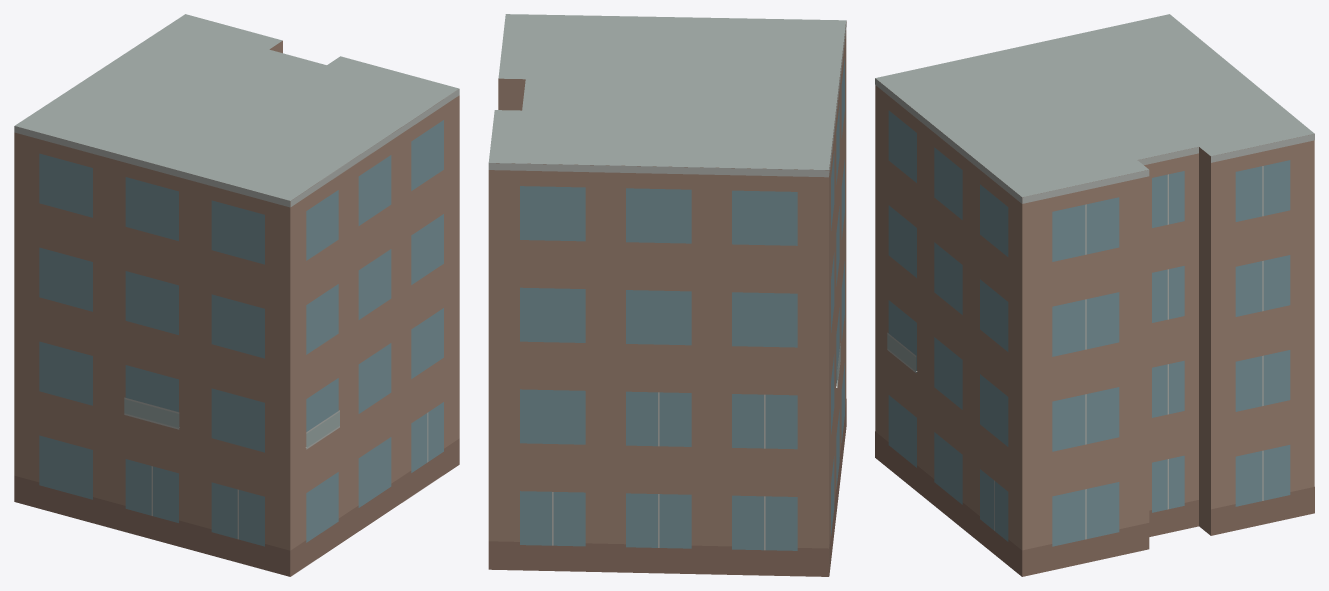
Rendered from survey-upis-33043511.glb.
3 renders of one model, left to right at view 1: azimuth 30°, elevation 25°; view 2: azimuth 150°, elevation 25°; view 3: azimuth 270°, elevation 25°, orthographic. The views are drawn at different scales.
Parts seen in each view (by area): view 1: survey-upis-33043511.tmp; view 2: survey-upis-33043511.tmp; view 3: survey-upis-33043511.tmp.
Boxes of the visible parts, bbox=[...] form: survey-upis-33043511.tmp: bbox=[14, 14, 459, 576]; survey-upis-33043511.tmp: bbox=[488, 14, 846, 576]; survey-upis-33043511.tmp: bbox=[875, 14, 1314, 576].
Bounding box in the file's own units: 14.41 × 13.9 × 14.6.
